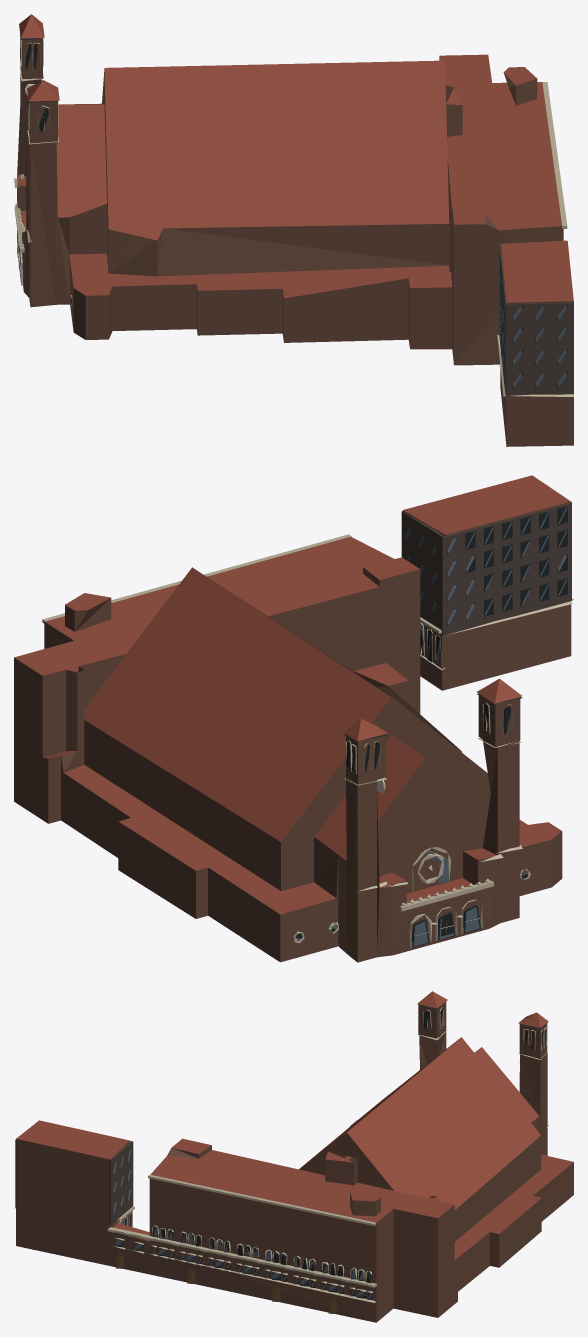
Rendered from chassekerk.lod1.glb.
3 views of the same model, one above another, from view 1: azimuth 30°, elevation 25°; view 2: azimuth 150°, elevation 25°; view 3: azimuth 270°, elevation 25° (orthographic). The views are drawn at different scales.
Parts seen in each view (by area): view 1: chassekerk; view 2: chassekerk; view 3: chassekerk.
Part boxes in pixels (box(x1,y1,x2,y2)): chassekerk: box(14, 14, 573, 446); chassekerk: box(14, 475, 573, 962); chassekerk: box(14, 991, 573, 1322).
Size of the model in its own units: 54.15 by 23.55 by 72.73.
